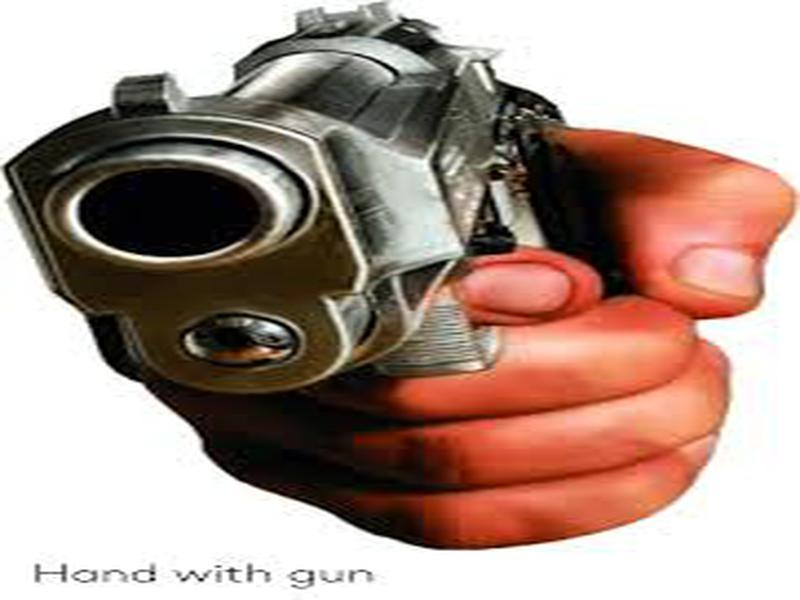gun: (5, 4, 787, 542)
